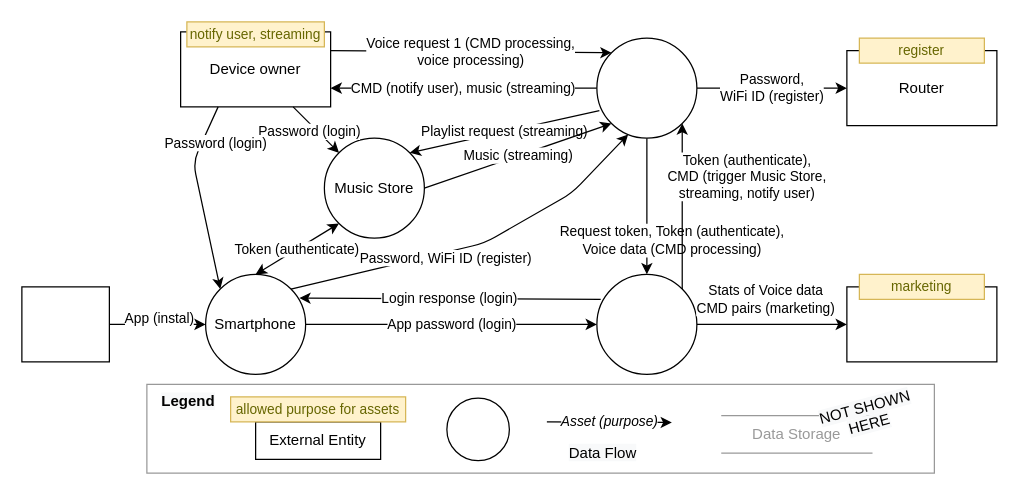
This 1019x495 diagram has some shape labels left out. The shapes that lost their labels are listed below. From the top down, each one's box as (x1, y1, x2, y2) in pixels, then its label:
(596, 37, 697, 138): Speaker
(21, 286, 109, 362): App Store
(596, 273, 697, 374): Provider
(846, 286, 997, 362): Third-party partner (children.stories.com)
(446, 397, 509, 461): Process
